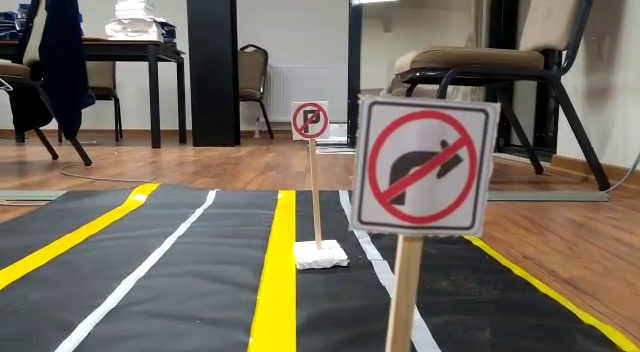park_yapilmaz: (291, 103, 328, 139)
saga_donulmez: (359, 99, 479, 231)
